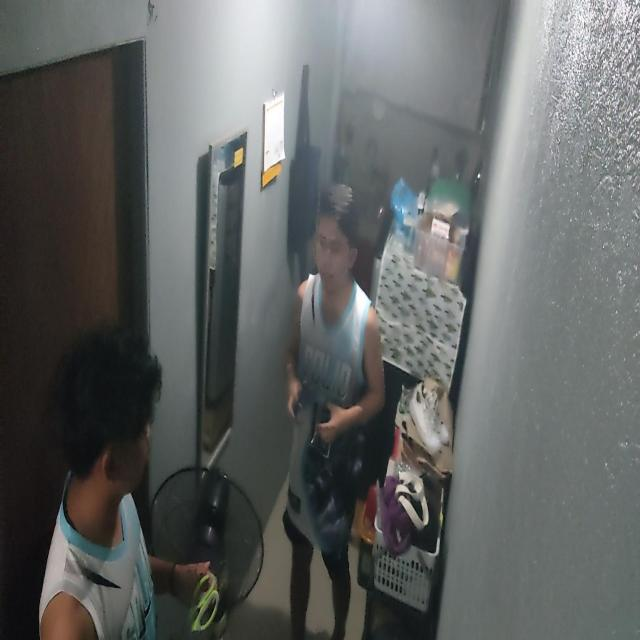scissor: (181, 572, 223, 640)
